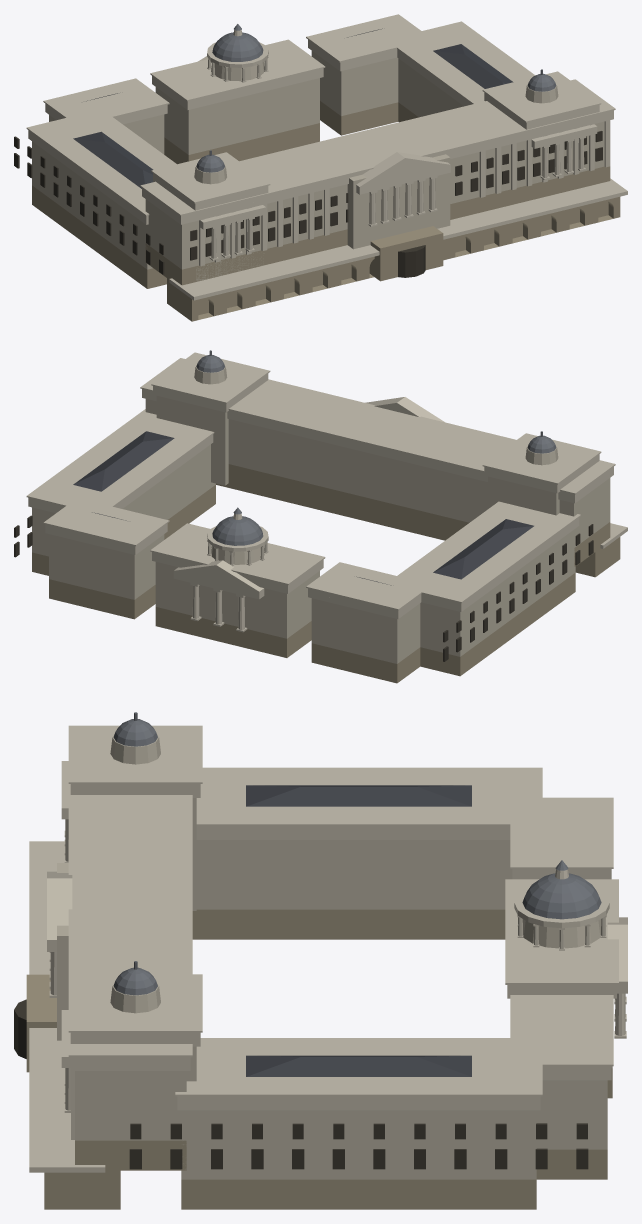
The model's file is somerset_house.glb.
The picture shows the model from 3 angles, top to bottom: view 1: azimuth 30°, elevation 25°; view 2: azimuth 150°, elevation 25°; view 3: azimuth 270°, elevation 25°; orthographic projection. The views are drawn at different scales.
Visible parts, largest first — view 1: somerset_house; view 2: somerset_house; view 3: somerset_house.
Boxes of the visible parts, bbox=[...] form: somerset_house: bbox=[14, 14, 627, 321]; somerset_house: bbox=[14, 350, 627, 683]; somerset_house: bbox=[14, 712, 627, 1209].
Size of the model in its own units: 152 by 46 by 121.
